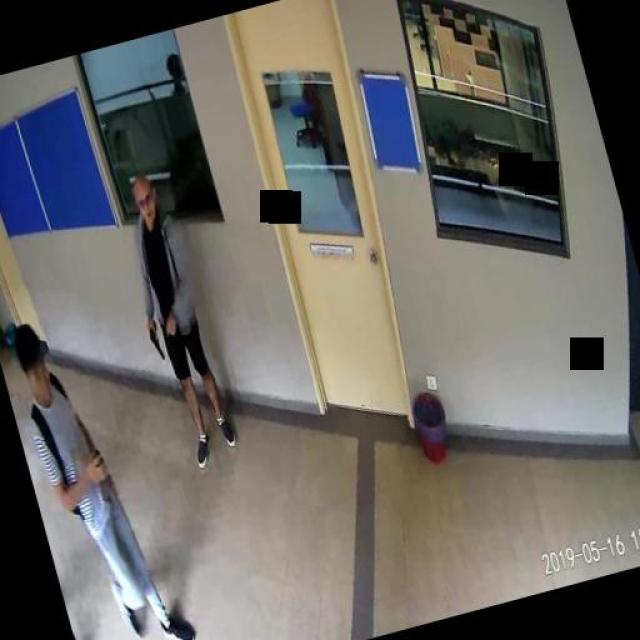gun: (144, 318, 164, 362)
